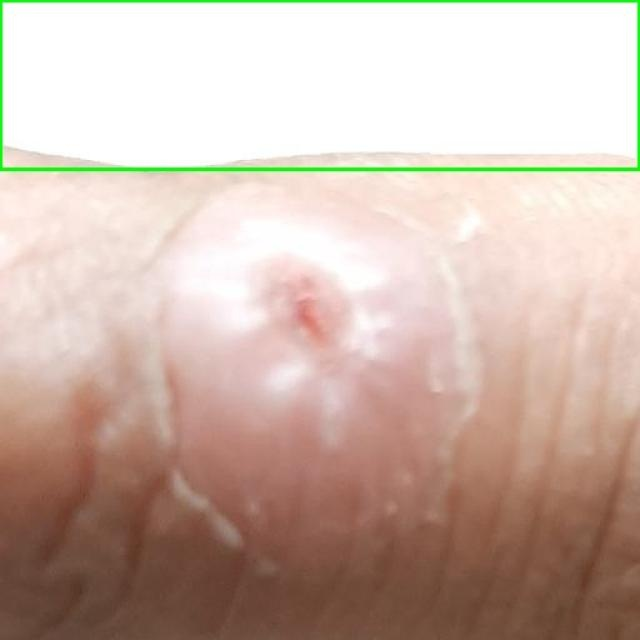Eczema: (0, 0, 639, 169)
